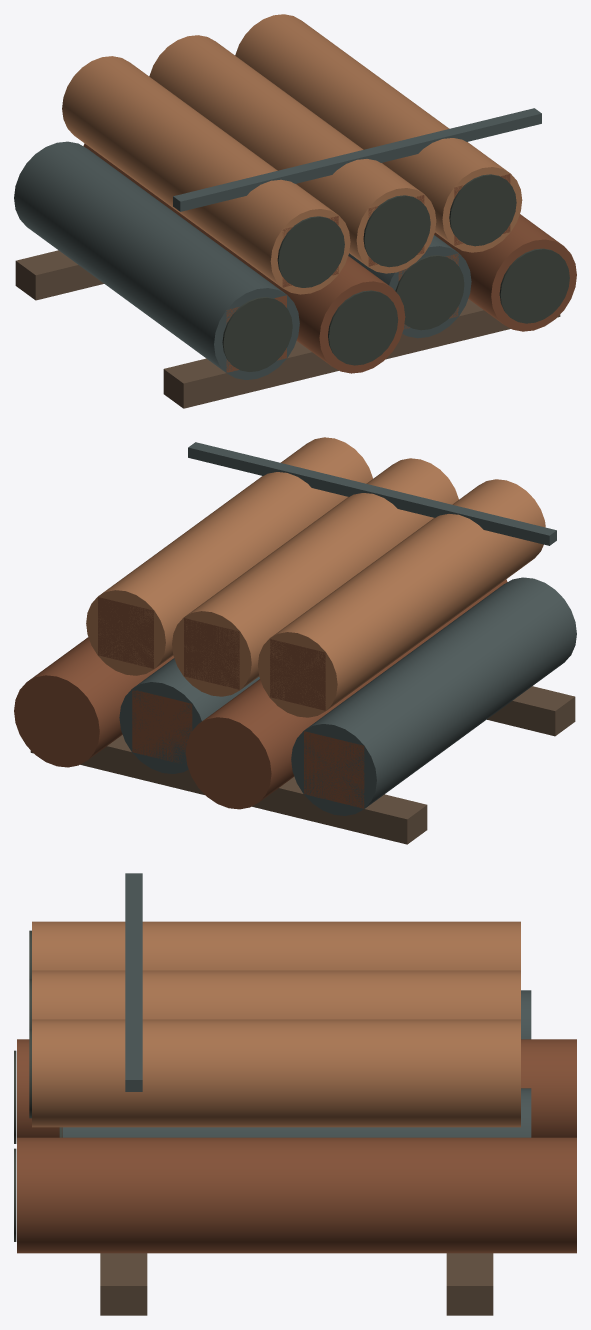
File: FSA_ENV_Outdoor_Scrap_03_Pipes.glb
3 renders of one model, top to bottom at view 1: azimuth 30°, elevation 25°; view 2: azimuth 150°, elevation 25°; view 3: azimuth 270°, elevation 25°, orthographic. The views are drawn at different scales.
Visible parts, largest first — view 1: Pipe0, UpperPipe0, UpperPipe1, UpperPipe2, BearerB, StrapFront, Pipe1, Pipe3, PipeEnd1, PipeEnd0, PipeEnd3, PipeEnd2 (+5 smaller); view 2: Pipe0, UpperPipe0, UpperPipe1, UpperPipe2, Pipe1, Pipe3, BearerA, StrapFront, Pipe2, PipeCore0, PipeCore3, PipeCore1 (+5 smaller); view 3: Pipe3, UpperPipe2, UpperPipe0, UpperPipe1, Pipe1, Pipe2, StrapFront, BearerA, BearerB.
Part boxes in pixels (left/top/right/bottom): Pipe0: left=14, top=141, right=299, bottom=379; UpperPipe0: left=62, top=56, right=350, bottom=294; UpperPipe1: left=149, top=35, right=436, bottom=273; UpperPipe2: left=235, top=14, right=522, bottom=252; BearerB: left=163, top=299, right=560, bottom=408; StrapFront: left=173, top=108, right=541, bottom=211; Pipe1: left=83, top=143, right=405, bottom=373; Pipe3: left=434, top=214, right=576, bottom=331; PipeEnd1: left=328, top=290, right=398, bottom=365; PipeEnd0: left=222, top=297, right=292, bottom=371; PipeEnd3: left=499, top=248, right=569, bottom=323; PipeEnd2: left=395, top=255, right=464, bottom=330; Pipe0: left=291, top=577, right=576, bottom=815; UpperPipe0: left=258, top=479, right=545, bottom=717; UpperPipe1: left=172, top=458, right=458, bottom=696; UpperPipe2: left=86, top=437, right=372, bottom=675; Pipe1: left=185, top=579, right=507, bottom=809; Pipe3: left=14, top=637, right=173, bottom=767; BearerA: left=30, top=735, right=427, bottom=844; StrapFront: left=188, top=442, right=556, bottom=545; Pipe2: left=119, top=658, right=259, bottom=773; PipeCore0: left=304, top=731, right=364, bottom=808; PipeCore3: left=26, top=682, right=86, bottom=760; PipeCore1: left=198, top=724, right=258, bottom=799; Pipe3: left=17, top=1137, right=576, bottom=1253; UpperPipe2: left=32, top=1019, right=520, bottom=1127; UpperPipe0: left=32, top=921, right=520, bottom=970; UpperPipe1: left=32, top=970, right=520, bottom=1019; Pipe1: left=17, top=1039, right=576, bottom=1137; Pipe2: left=62, top=1088, right=531, bottom=1137; StrapFront: left=125, top=873, right=142, bottom=1091; BearerA: left=446, top=1253, right=493, bottom=1315; BearerB: left=100, top=1253, right=147, bottom=1315.
Bounding box in the file's own units: 2.5 × 1.25 × 2.76.
